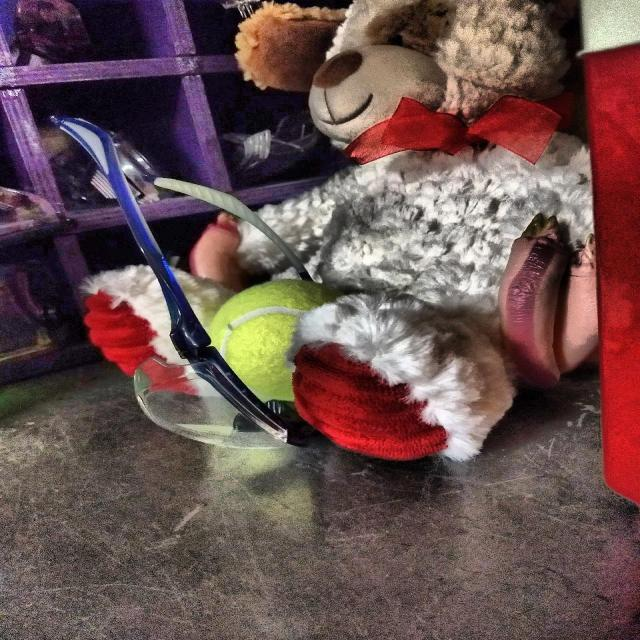tennis-ball: (210, 276, 344, 414)
